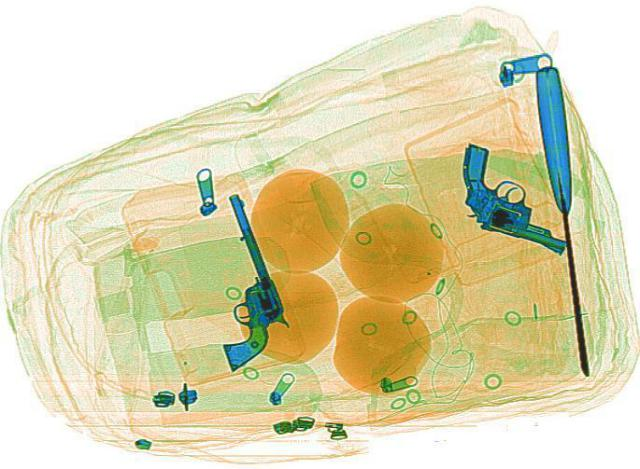Gun: (168, 191, 304, 370), (418, 141, 608, 254)
Knife: (532, 64, 594, 375)
